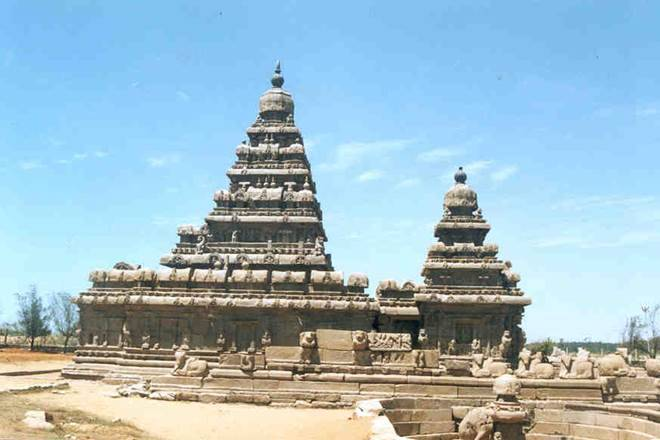Temple: (81, 60, 419, 350), (412, 162, 538, 355)
